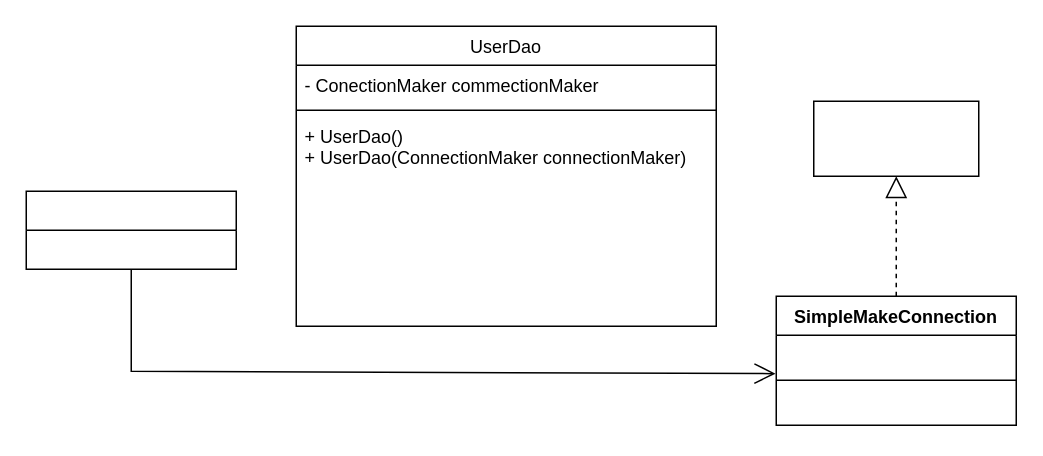
Some shapes in this 1043 by 456 pixel diagram are drawn without their labels. The shapes that lost their labels are listed below. From the top down, each one's centre as x and y in pixels, then its label:
the point at 895,138: «interface» ConnectionMaker
the point at 130,229: UserDaoTest
